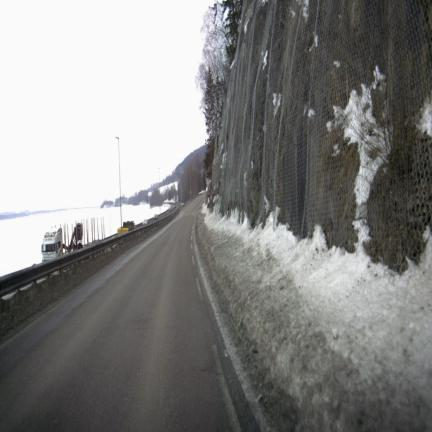Road: (0, 197, 238, 430)
